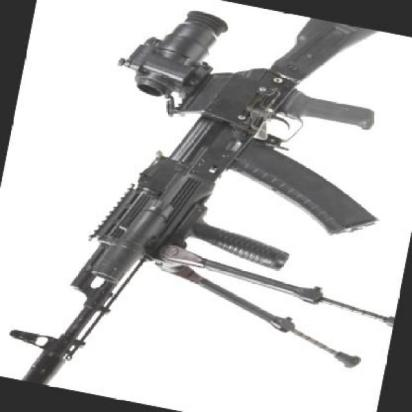Gun: (14, 20, 382, 382)
